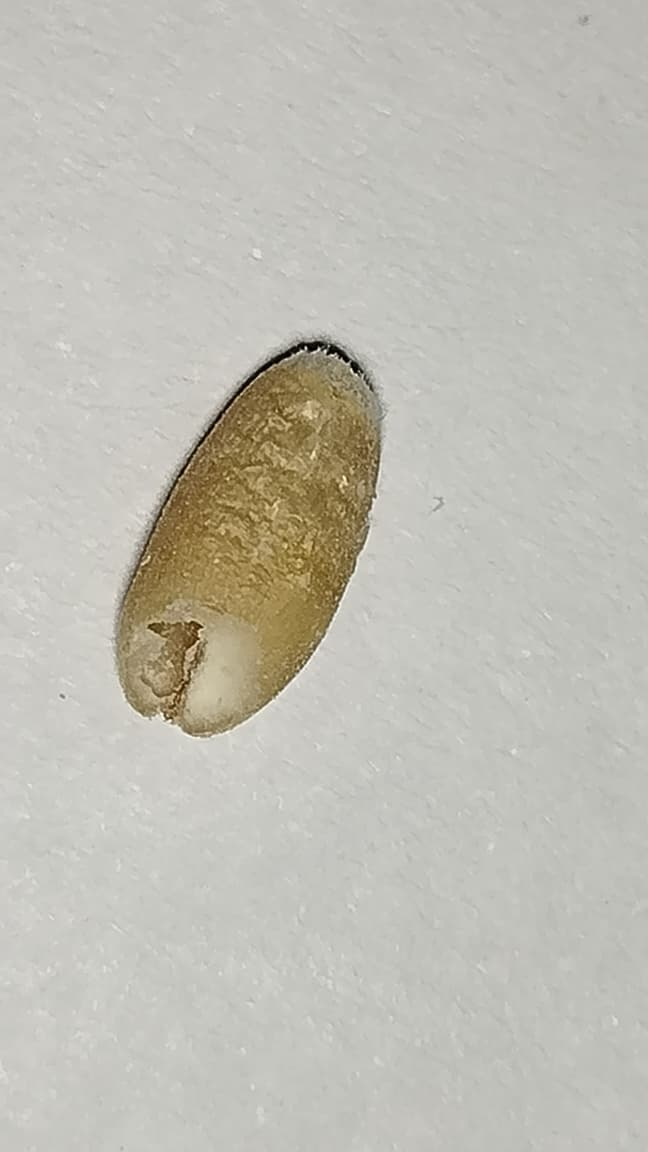damage: (116, 335, 383, 738)
insectdamage: (110, 585, 273, 738)
